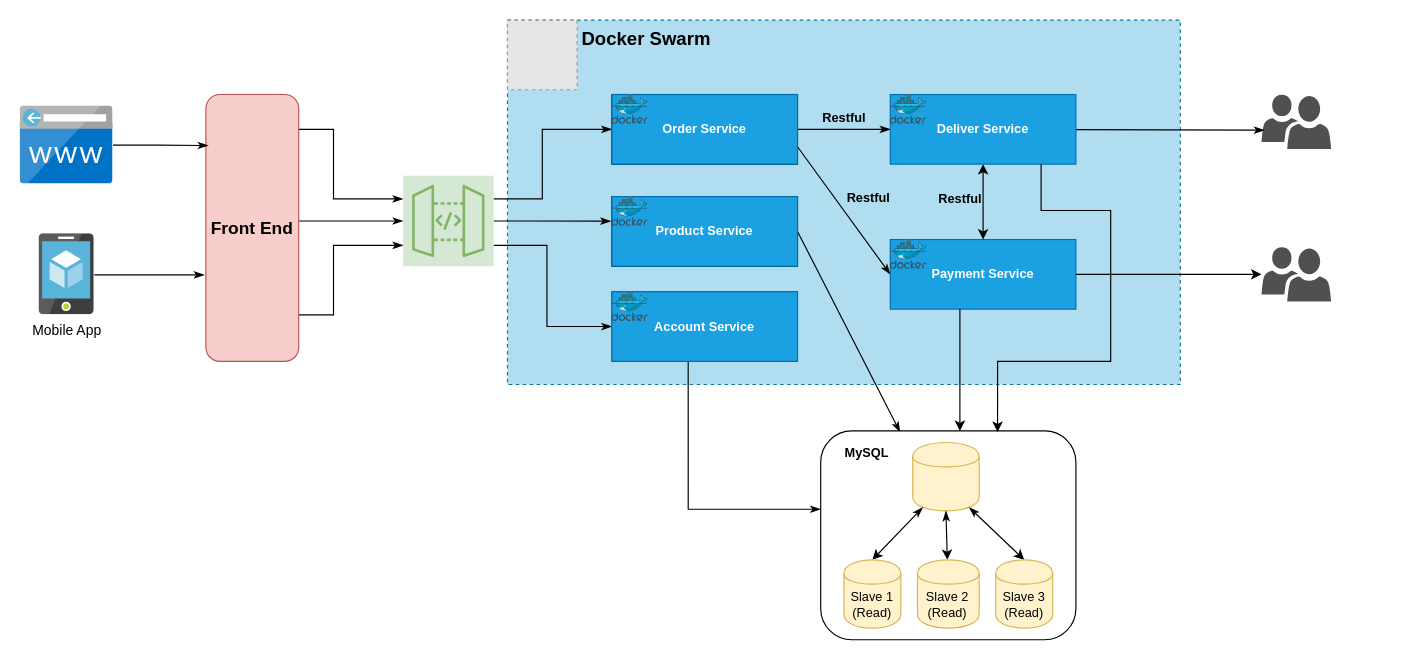
The diagram is 1409 pixels wide and 661 high, and some of its shapes have lost their labels. Grey dashed boxes stand in for pictures. The shapes that lost their labels are listed below. From the top down, each one's centre as x and y in pixels, then its label:
At point (1296, 121): "Delivery 3rd Party APIs".
At point (66, 145): "Web App".
At point (448, 220): "API Gateway".
At point (1296, 273): "Online Payment 3rd Party APIs".
At point (945, 476): "Master (Write)".
